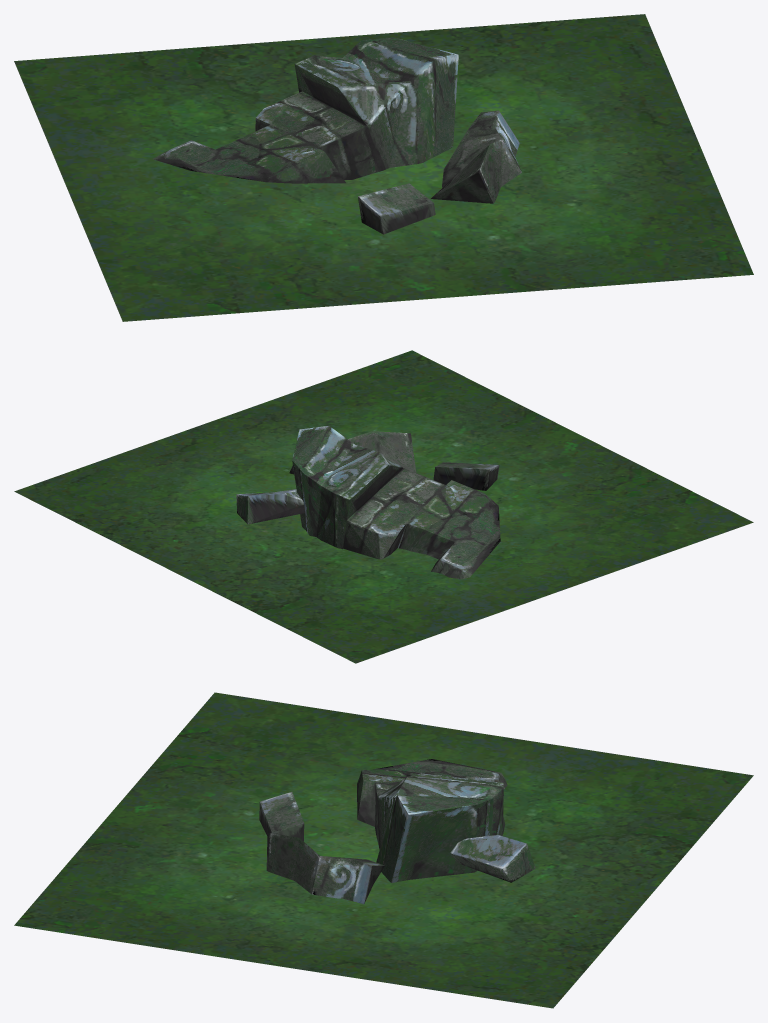
Rendered from stemple_floor_rubble_04.fbx.
The picture shows the model from 3 angles, top to bottom: view 1: azimuth 30°, elevation 25°; view 2: azimuth 150°, elevation 25°; view 3: azimuth 270°, elevation 25°; orthographic projection. The views are drawn at different scales.
Visible parts, largest first — view 1: obj1.078; view 2: obj1.078; view 3: obj1.078.
Boxes of the visible parts, left/top/right/bottom form: obj1.078: left=14, top=14, right=753, bottom=321; obj1.078: left=14, top=350, right=753, bottom=663; obj1.078: left=14, top=692, right=753, bottom=1008.
Bounding box in the file's own units: 7.32 × 1.29 × 7.24.
